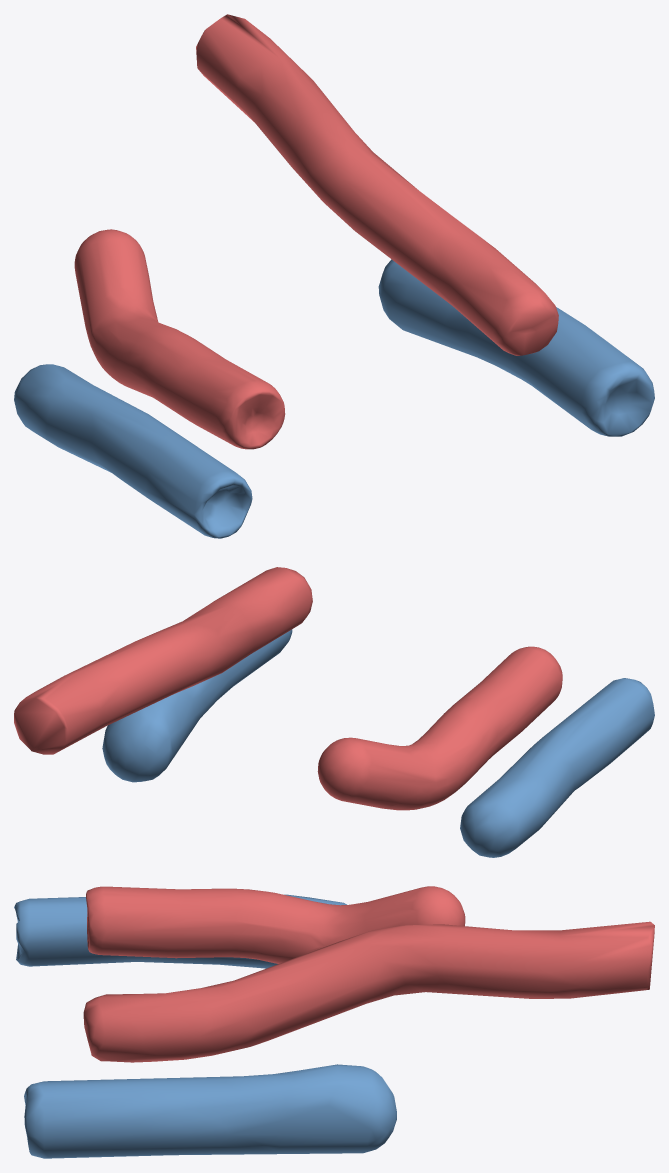
File: vaisseaux.glb
The picture shows the model from 3 angles, top to bottom: view 1: azimuth 30°, elevation 25°; view 2: azimuth 150°, elevation 25°; view 3: azimuth 270°, elevation 25°; orthographic projection. The views are drawn at different scales.
Visible parts, largest first — view 1: carotide_commune_gauche, carotide_commune_droite, jugulaire_interne_droite, jugulaire_interne_gauche; view 2: carotide_commune_gauche, carotide_commune_droite, jugulaire_interne_droite, jugulaire_interne_gauche; view 3: carotide_commune_gauche, jugulaire_interne_gauche, carotide_commune_droite, jugulaire_interne_droite.
Boxes of the visible parts, box(x1,y1,x2,y2) form: carotide_commune_gauche: box(196, 14, 558, 355); carotide_commune_droite: box(74, 229, 285, 449); jugulaire_interne_droite: box(14, 364, 252, 538); jugulaire_interne_gauche: box(378, 259, 654, 436); carotide_commune_gauche: box(14, 567, 312, 754); carotide_commune_droite: box(317, 646, 562, 810); jugulaire_interne_droite: box(460, 678, 654, 857); jugulaire_interne_gauche: box(102, 629, 292, 782); carotide_commune_gauche: box(83, 921, 654, 1062); jugulaire_interne_gauche: box(24, 1064, 396, 1158); carotide_commune_droite: box(86, 886, 465, 963); jugulaire_interne_droite: box(14, 894, 346, 968).
Bounding box in the file's own units: 62.29 × 26.29 × 74.34.
